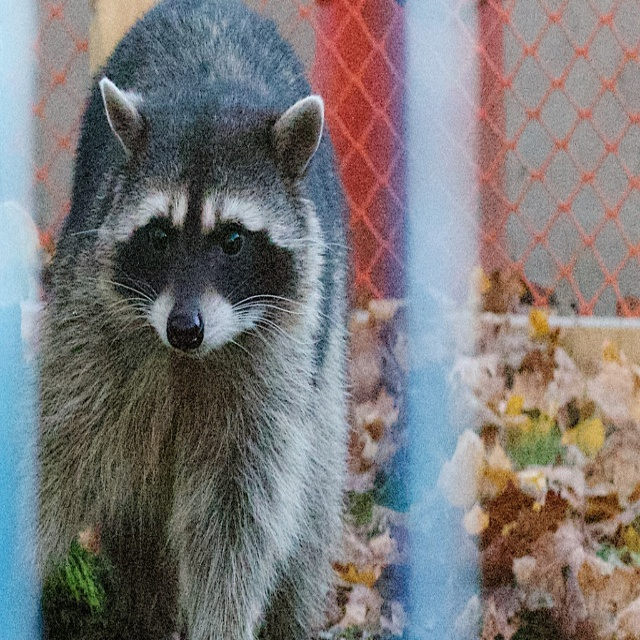Raccoon: (34, 0, 353, 639)
